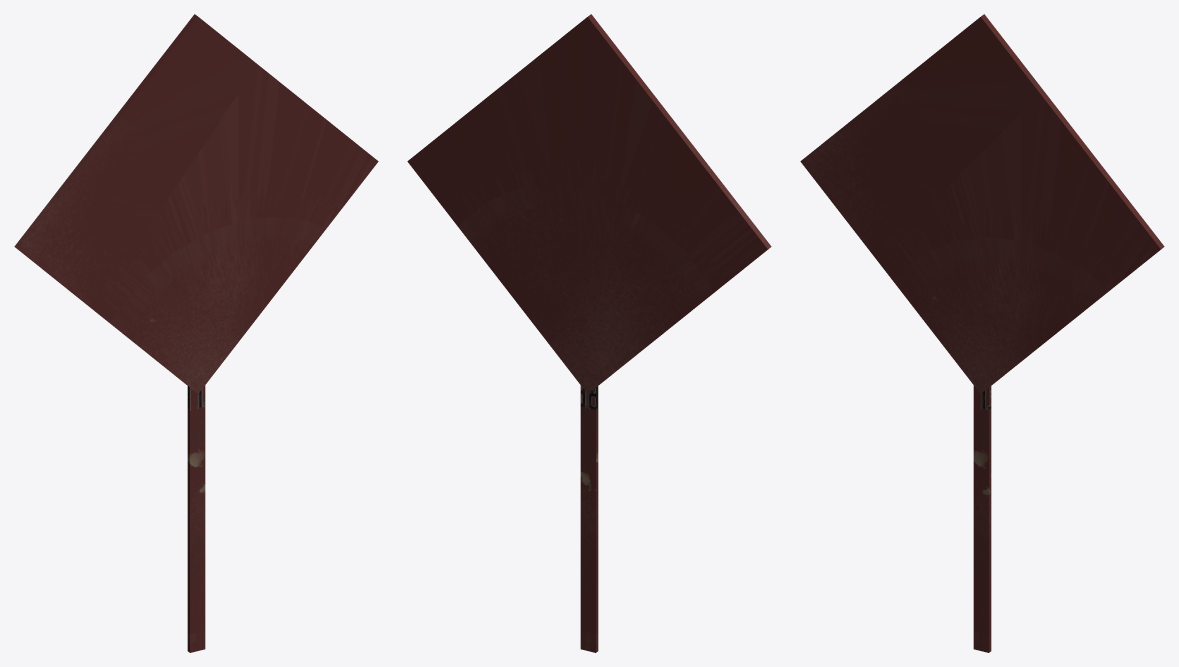
Rendered from CS_sign_03.FBX.
3 views of the same model, side by side, from view 1: azimuth 30°, elevation 25°; view 2: azimuth 150°, elevation 25°; view 3: azimuth 330°, elevation 25° (orthographic).
Parts seen in each view (by area): view 1: SM_sign_03; view 2: SM_sign_03; view 3: SM_sign_03.
Part boxes in pixels (x1,y1,x2,y2): SM_sign_03: (14, 14, 378, 652); SM_sign_03: (407, 14, 771, 652); SM_sign_03: (800, 14, 1164, 652).
Bounding box in the file's own units: 119 × 2.12 × 200.
